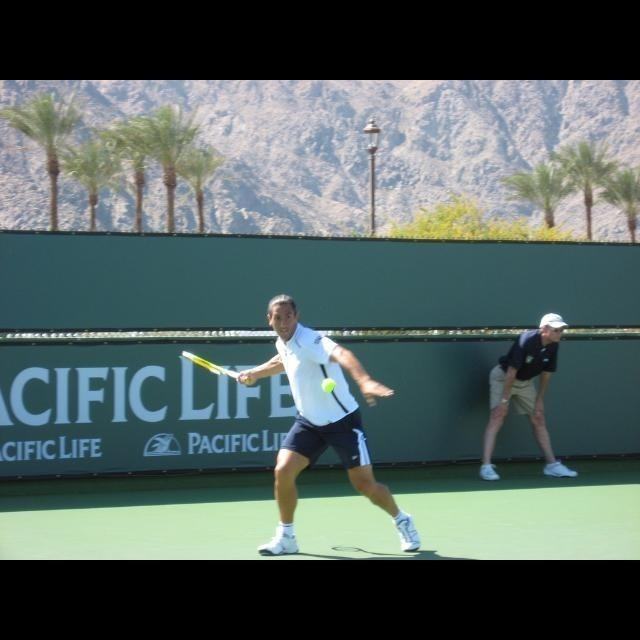ball: (321, 378, 336, 393)
